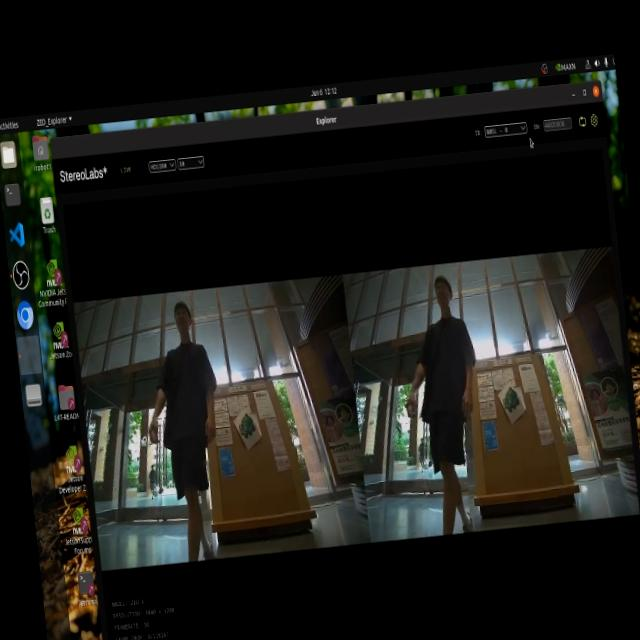green: (233, 406, 257, 444), (501, 386, 521, 419)
